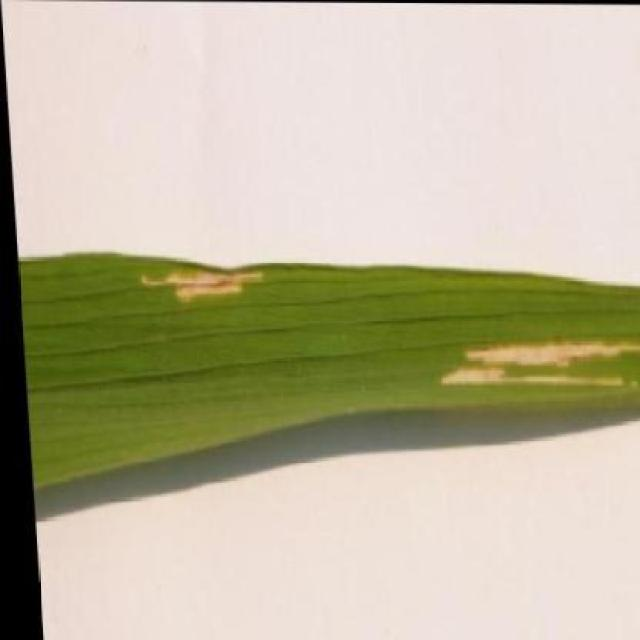Brown_Spot: (12, 250, 640, 496)
